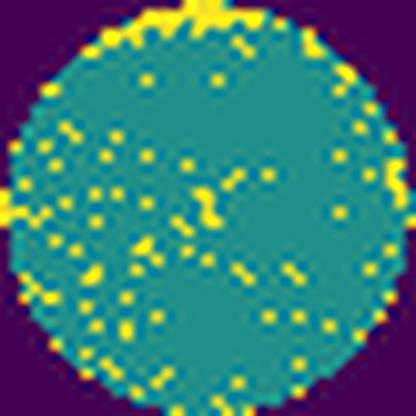Edge-Loc: (80, 0, 274, 58)
